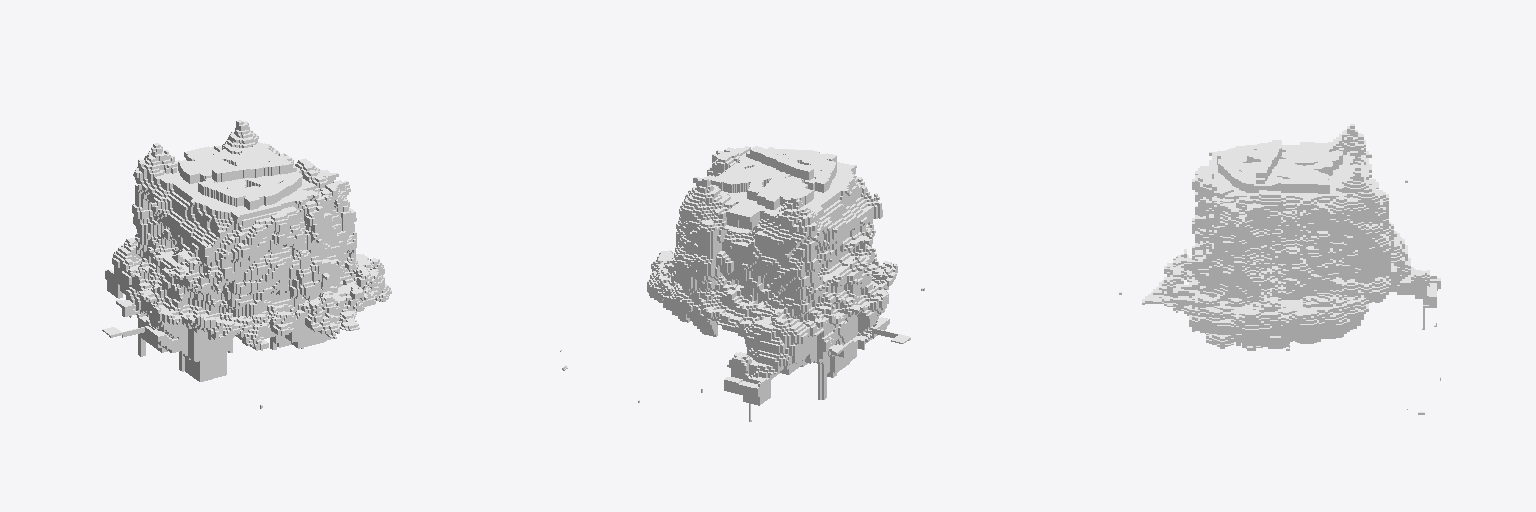
The model's file is Lava_stuff-16.obj.
The picture shows the model from 3 angles: view 1: azimuth 30°, elevation 25°; view 2: azimuth 150°, elevation 25°; view 3: azimuth 270°, elevation 25°; orthographic projection.
Visible parts, largest first — view 1: object 1; view 2: object 1; view 3: object 1.
Boxes of the visible parts, <box> form: object 1: <box>102,120,391,408</box>; object 1: <box>560,146,924,421</box>; object 1: <box>1119,124,1440,414</box>.
Size of the model in its own units: 24.1 by 16 by 23.3.